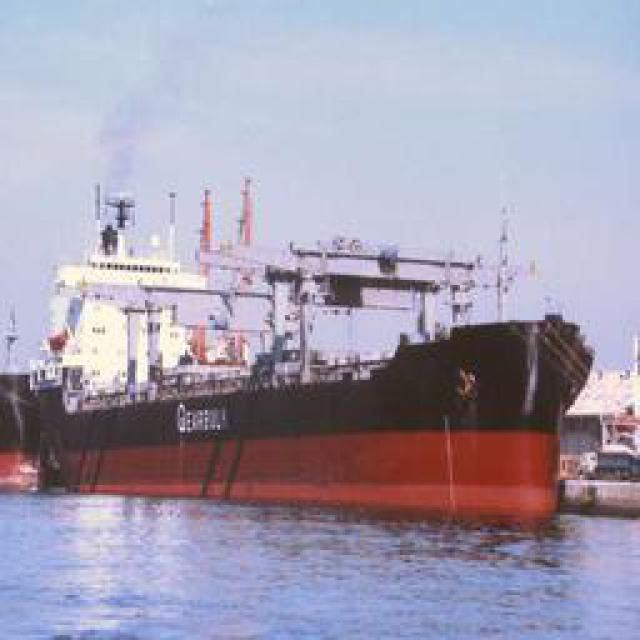Ship: (20, 162, 605, 522)
